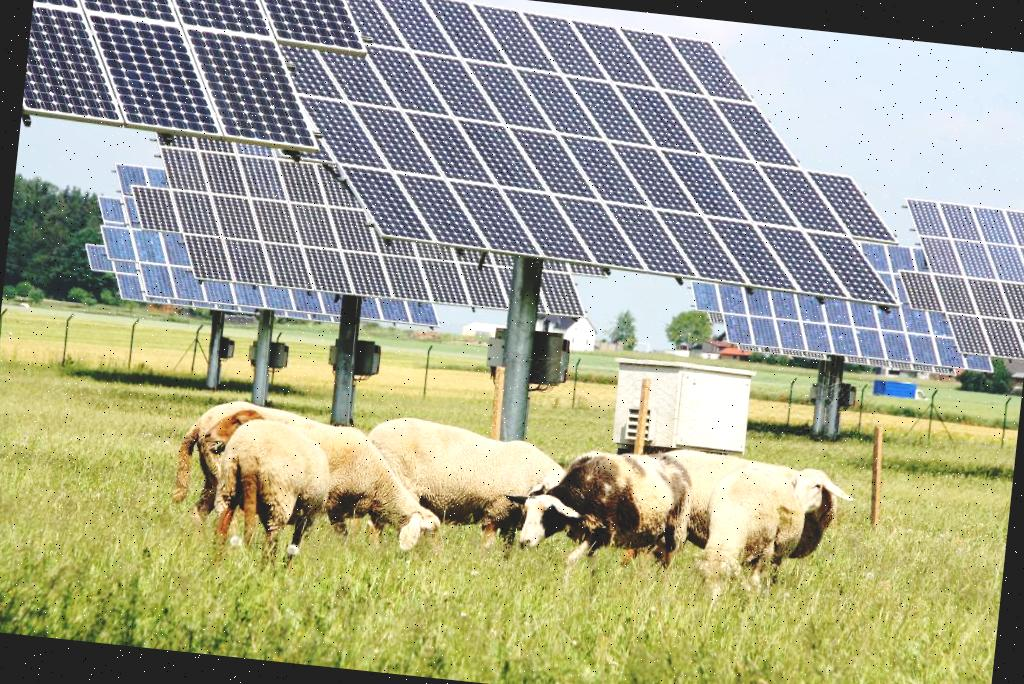Sheep: (162, 394, 454, 567), (360, 412, 586, 553), (644, 444, 856, 589), (502, 440, 700, 586), (190, 402, 331, 564), (698, 458, 810, 602)
